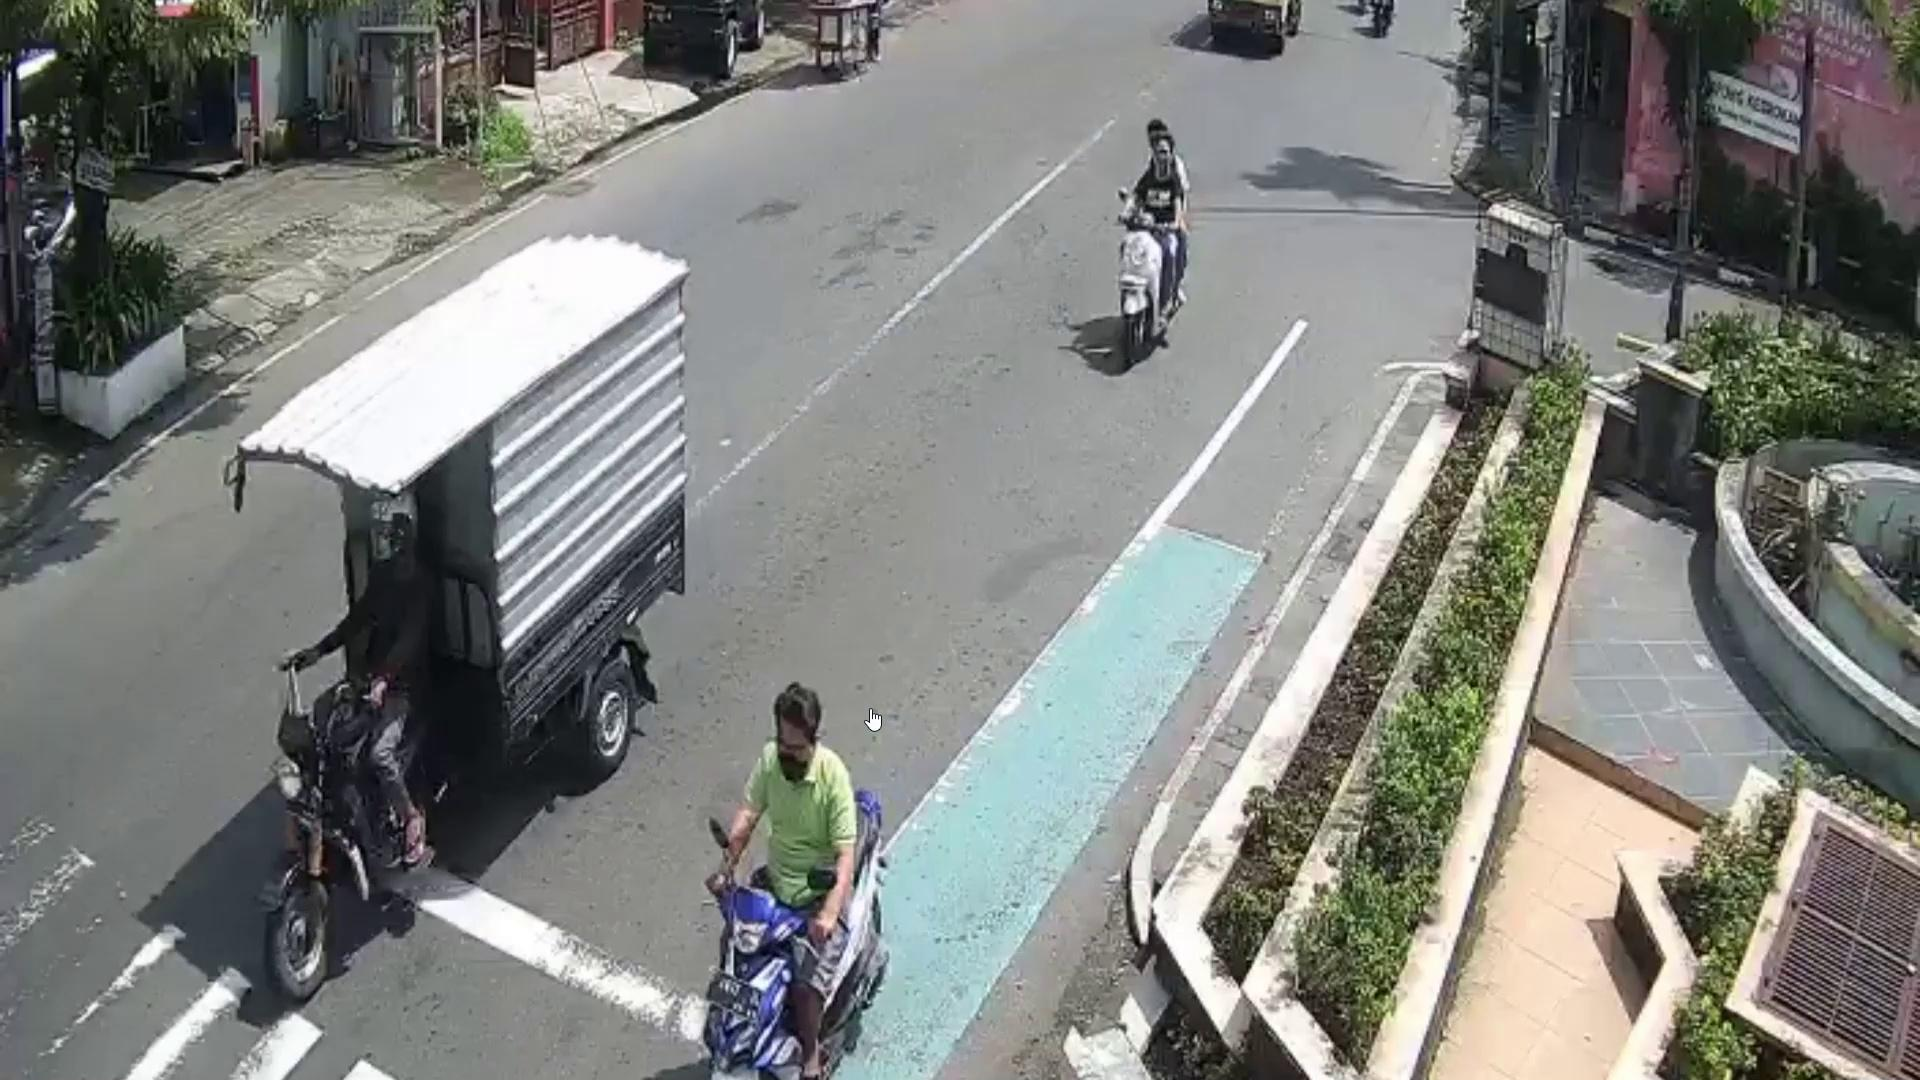motorbike: (269, 695, 471, 1004), (703, 787, 885, 1080), (1120, 203, 1167, 373)
